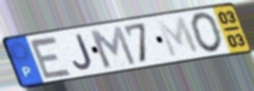7: (122, 20, 151, 65)
E: (26, 35, 74, 80)
J: (71, 33, 94, 71)
M: (87, 24, 139, 70), (154, 15, 203, 60)
O: (189, 11, 225, 55)
